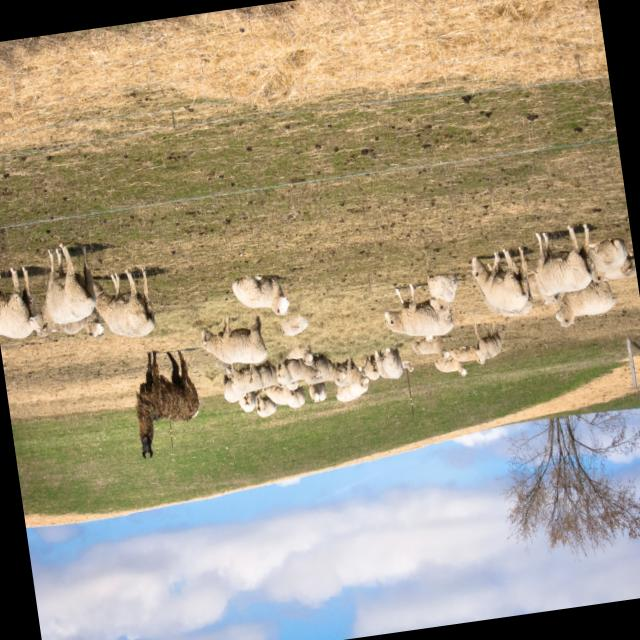alpaca: (126, 346, 208, 462)
